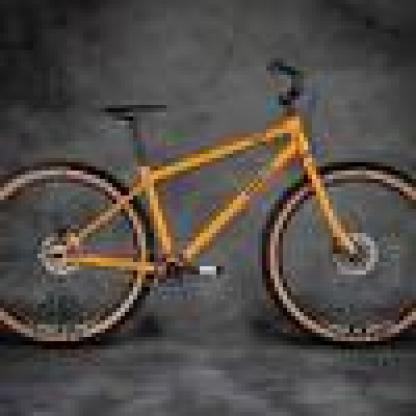Bike: (0, 62, 416, 354)
